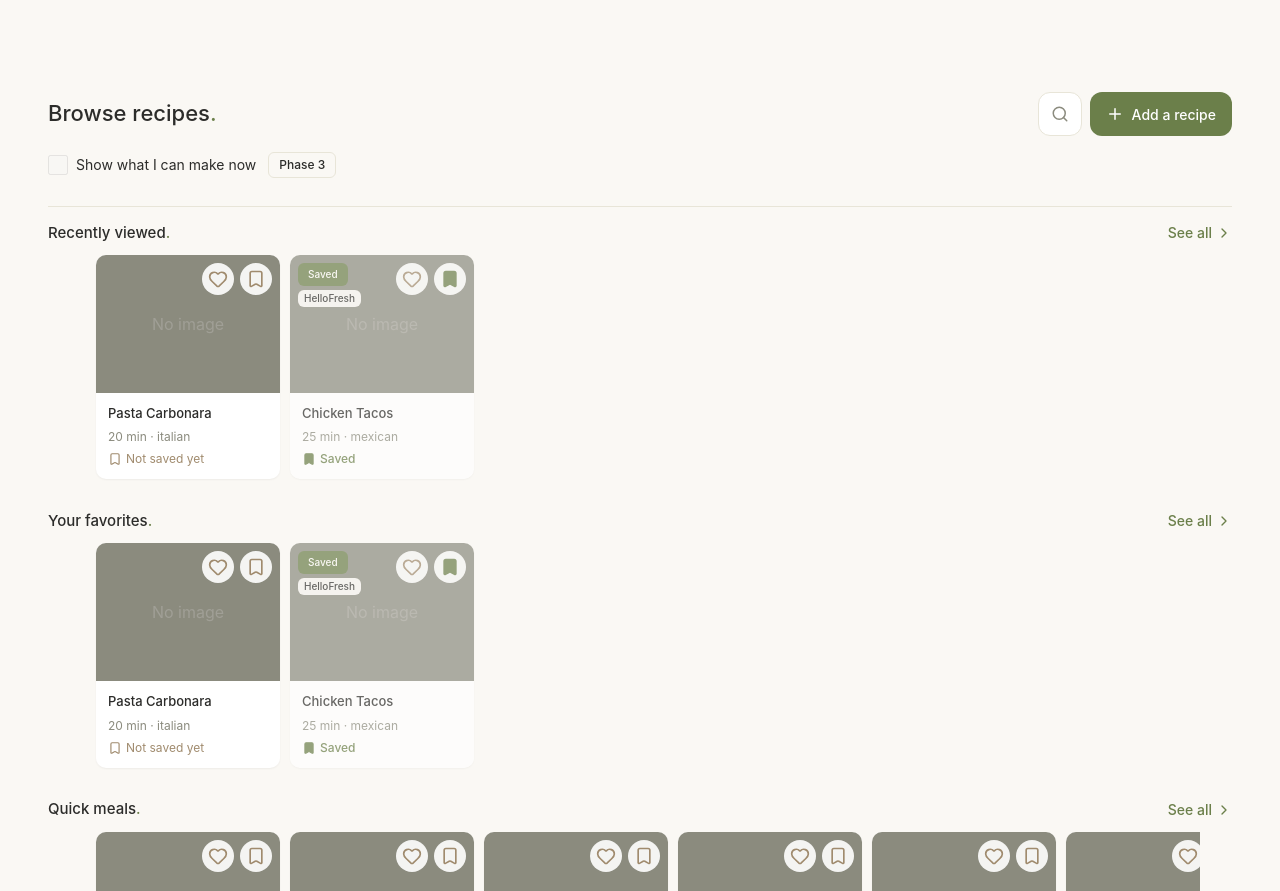
Test case: Recipes Page › page structure › collapses back to the icon when the empty input loses focus
The width and height of the screenshot is (1280, 891).
Click the button named "Search recipes": (1060, 114) x1=1038 y1=92 x2=1082 y2=136
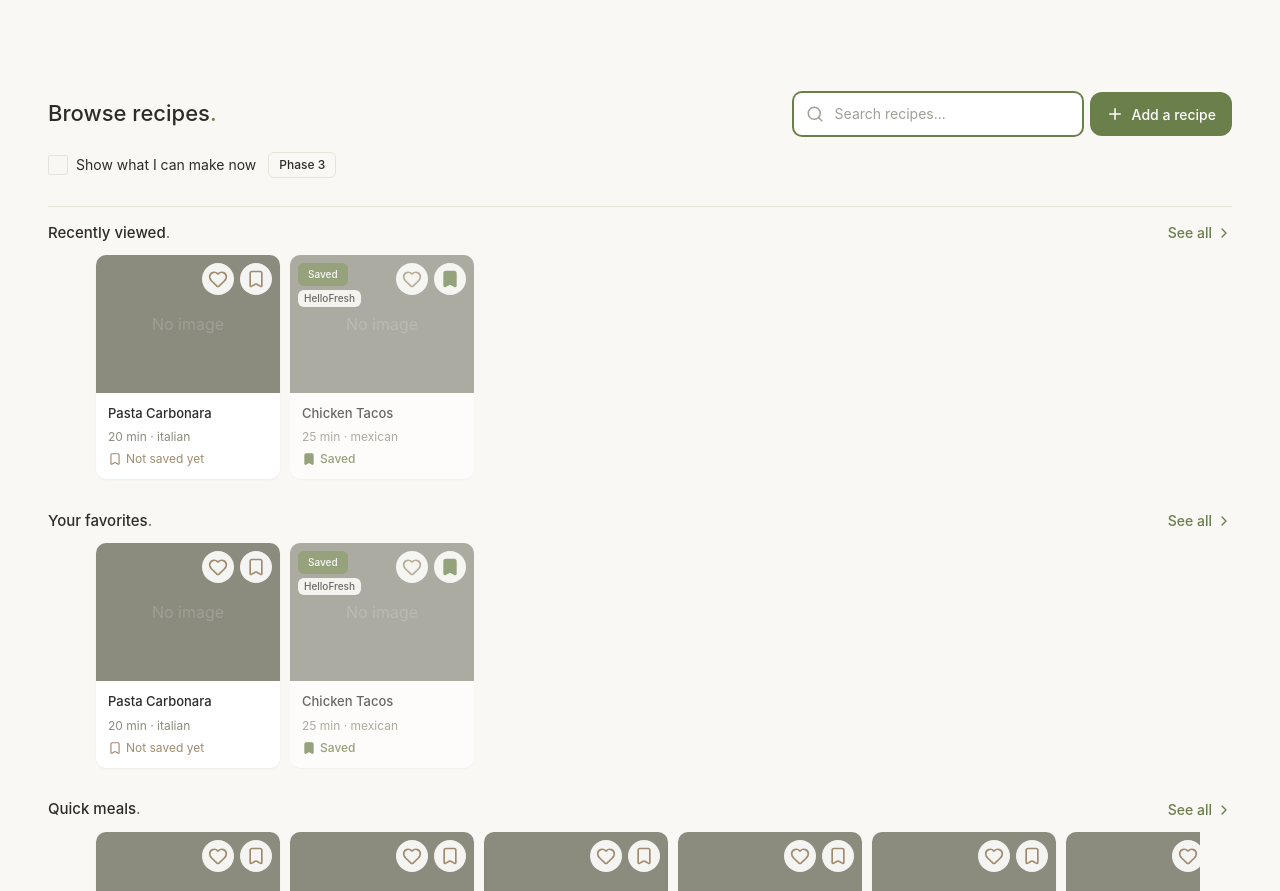
Click the heading "Browse recipes.": (132, 114) x1=48 y1=100 x2=217 y2=128
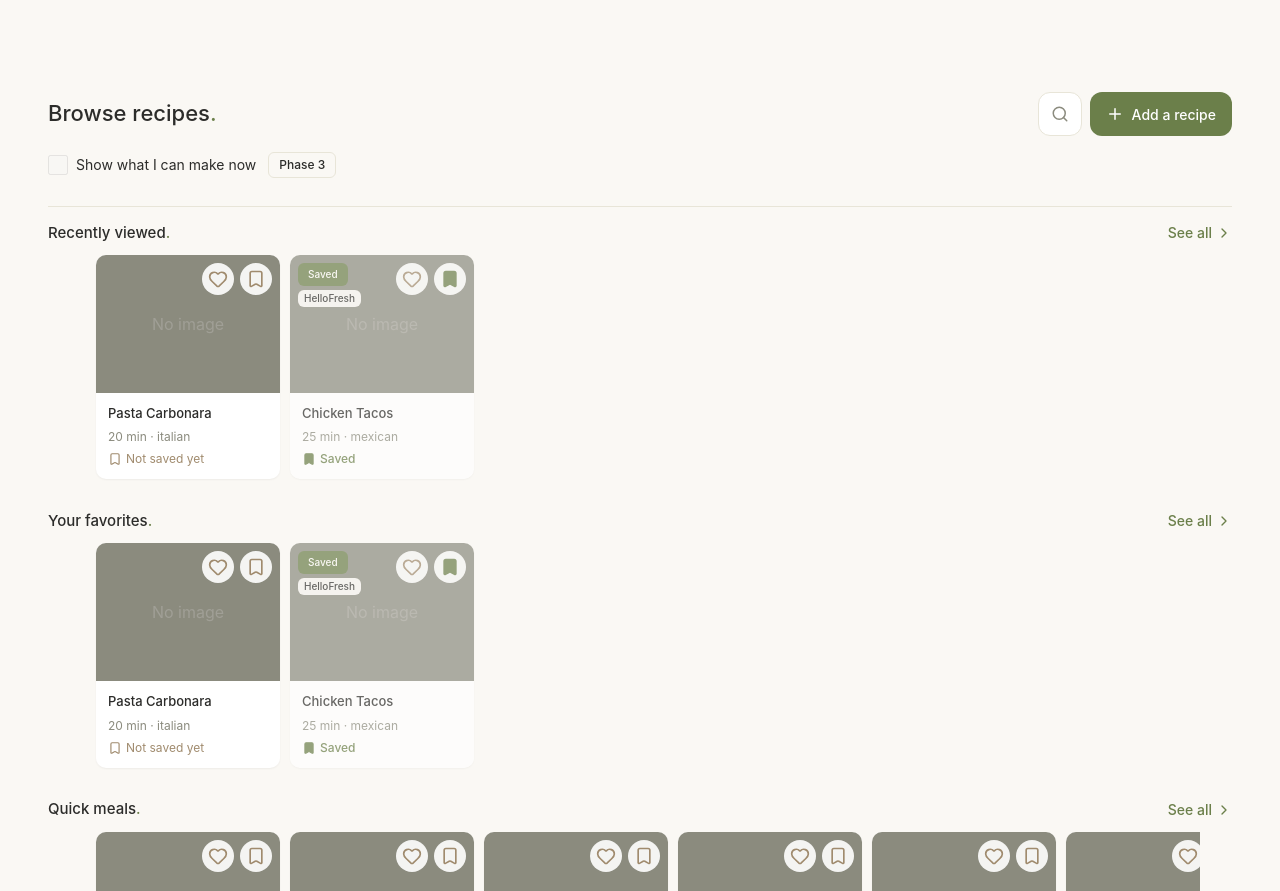
Expected: the field with placeholder "Search recipes..." is not shown
Expected: the button named "Search recipes" is shown, x1=1038 y1=92 x2=1082 y2=136
